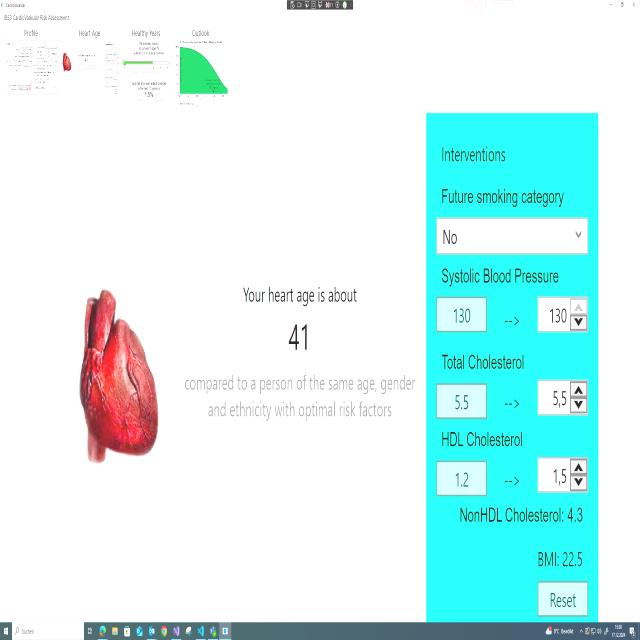button: (534, 576, 592, 622), (433, 458, 491, 500), (434, 293, 490, 335), (434, 380, 489, 420), (627, 0, 640, 11), (603, 0, 615, 11), (615, 0, 627, 11)
dropdownMenu: (435, 212, 591, 259)
input: (12, 622, 84, 640)
label: (458, 503, 588, 533), (439, 177, 567, 207), (439, 263, 562, 289), (438, 422, 527, 454), (440, 348, 528, 375), (438, 138, 510, 166), (274, 319, 320, 357), (533, 544, 589, 573), (2, 10, 71, 24), (501, 302, 523, 331), (496, 468, 525, 489), (75, 21, 104, 40), (500, 392, 526, 412), (129, 24, 162, 39), (187, 22, 213, 38), (20, 25, 42, 37)
upDown: (534, 374, 590, 424), (534, 291, 592, 338), (534, 452, 590, 497)
